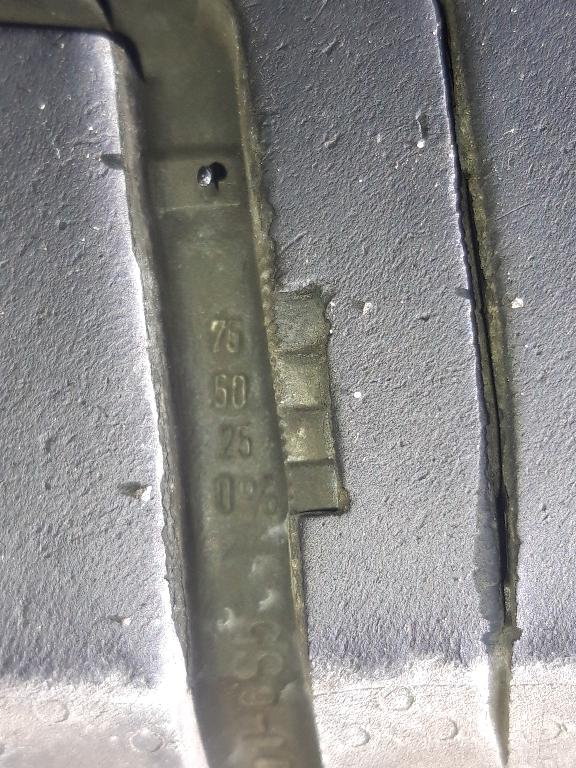temoin:90: (243, 217, 368, 541)
